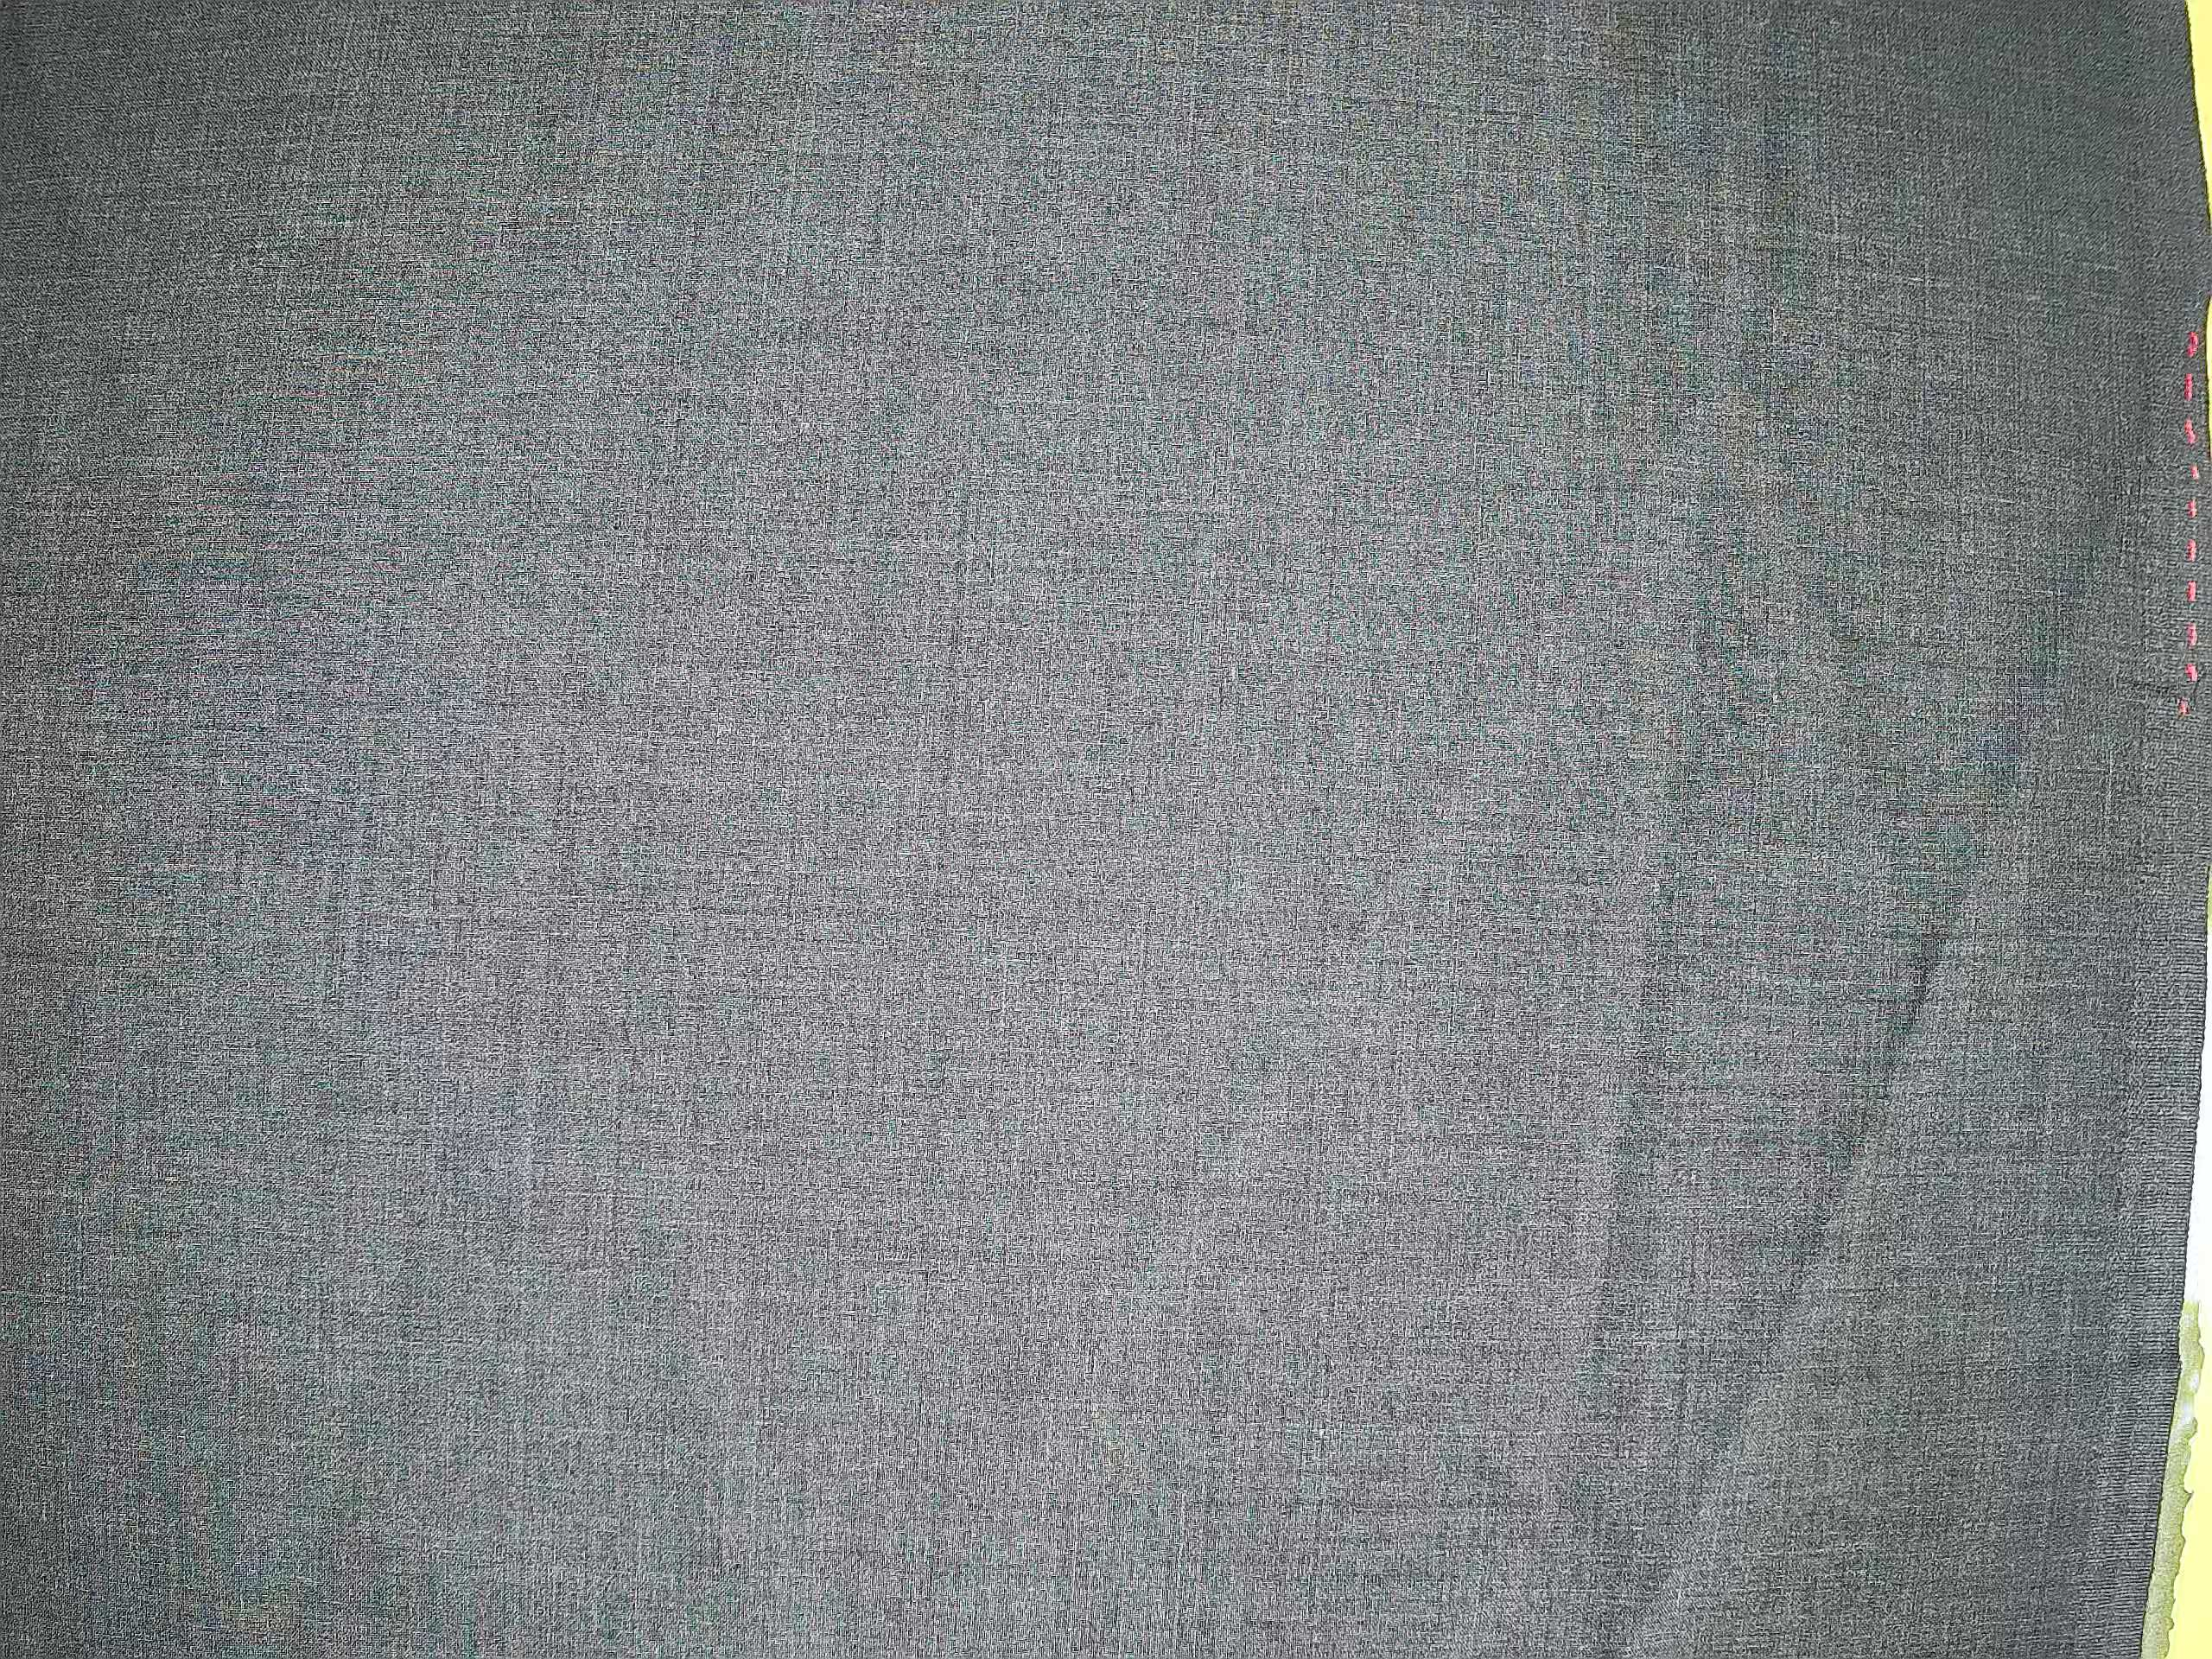jumps: (1933, 627, 2189, 732)
